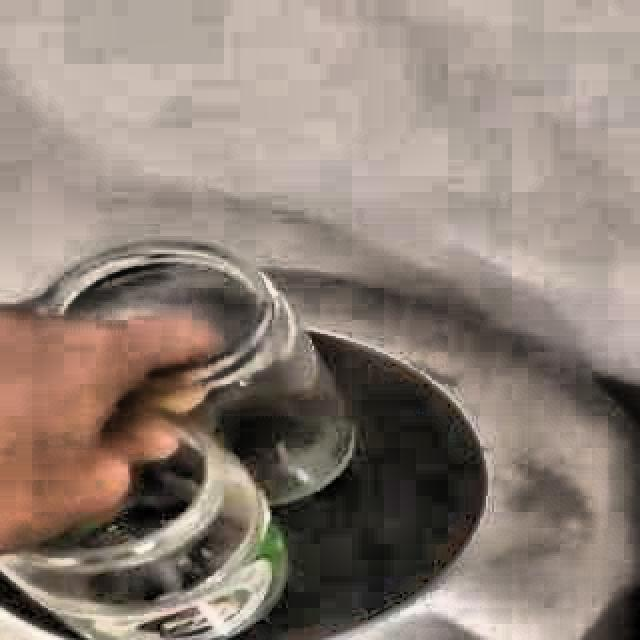glass: (0, 242, 355, 640)
